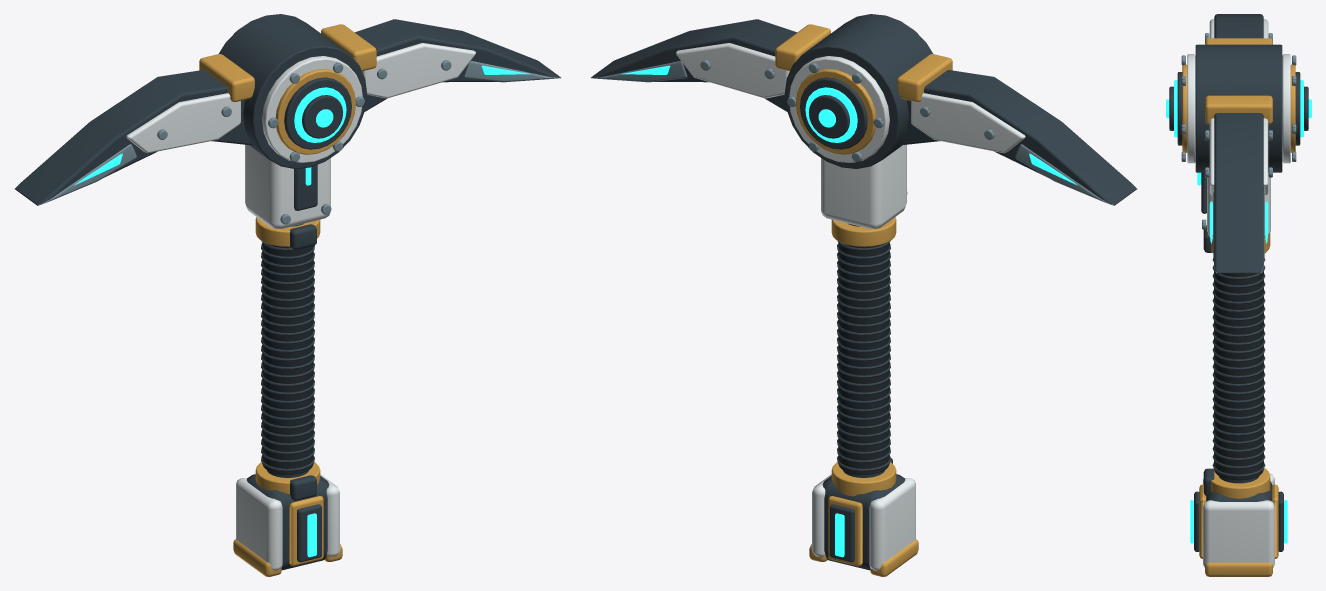
File: pickaxe.glb
3 renders of one model, left to right at view 1: azimuth 30°, elevation 25°; view 2: azimuth 150°, elevation 25°; view 3: azimuth 270°, elevation 25°, orthographic. The views are drawn at different scales.
Visible parts, largest first — view 1: pickaxe_Graphite titanium, pickaxe_Ceramic composite, pickaxe_Elastomer grip, pickaxe_Solar gold functional brackets, pickaxe_Cutting edge, pickaxe_Cyan light guide; view 2: pickaxe_Graphite titanium, pickaxe_Ceramic composite, pickaxe_Elastomer grip, pickaxe_Solar gold functional brackets, pickaxe_Cutting edge, pickaxe_Cyan light guide; view 3: pickaxe_Graphite titanium, pickaxe_Ceramic composite, pickaxe_Elastomer grip, pickaxe_Solar gold functional brackets, pickaxe_Cyan light guide, pickaxe_Cutting edge.
Boxes of the visible parts, <box> form: pickaxe_Graphite titanium: <box>15,14,560,570</box>; pickaxe_Ceramic composite: <box>126,43,475,570</box>; pickaxe_Elastomer grip: <box>262,242,313,474</box>; pickaxe_Solar gold functional brackets: <box>199,24,376,576</box>; pickaxe_Cutting edge: <box>14,33,560,224</box>; pickaxe_Cyan light guide: <box>74,65,530,557</box>; pickaxe_Graphite titanium: <box>591,14,1136,570</box>; pickaxe_Ceramic composite: <box>676,43,1025,570</box>; pickaxe_Elastomer grip: <box>838,242,889,474</box>; pickaxe_Solar gold functional brackets: <box>775,24,952,576</box>; pickaxe_Cutting edge: <box>591,33,1137,205</box>; pickaxe_Cyan light guide: <box>621,65,1077,557</box>; pickaxe_Graphite titanium: <box>1169,14,1308,551</box>; pickaxe_Ceramic composite: <box>1187,19,1290,567</box>; pickaxe_Elastomer grip: <box>1214,264,1263,480</box>; pickaxe_Solar gold functional brackets: <box>1182,38,1295,576</box>; pickaxe_Cyan light guide: <box>1166,80,1311,543</box>; pickaxe_Cutting edge: <box>1181,33,1296,273</box>.
Size of the model in its own units: 1.55 by 1.49 by 0.386.
